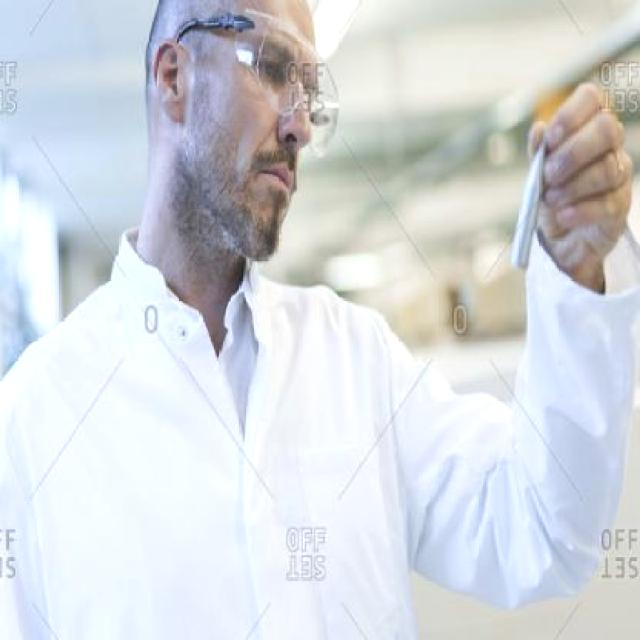face_nomask: (224, 45, 338, 210)
glasses: (224, 7, 338, 158)
hand_noglove: (500, 74, 640, 288)
person: (0, 0, 462, 640)
